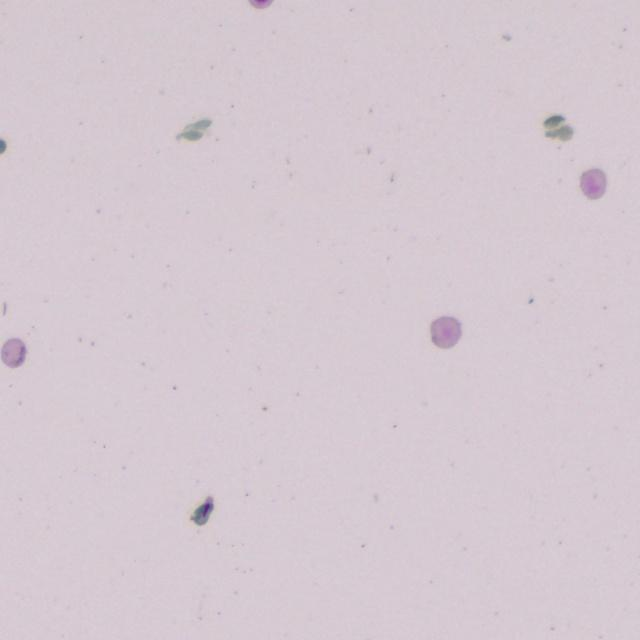intermediate: (430, 316, 461, 348), (580, 168, 606, 199), (0, 338, 25, 367), (190, 496, 214, 526), (248, 0, 273, 9)
